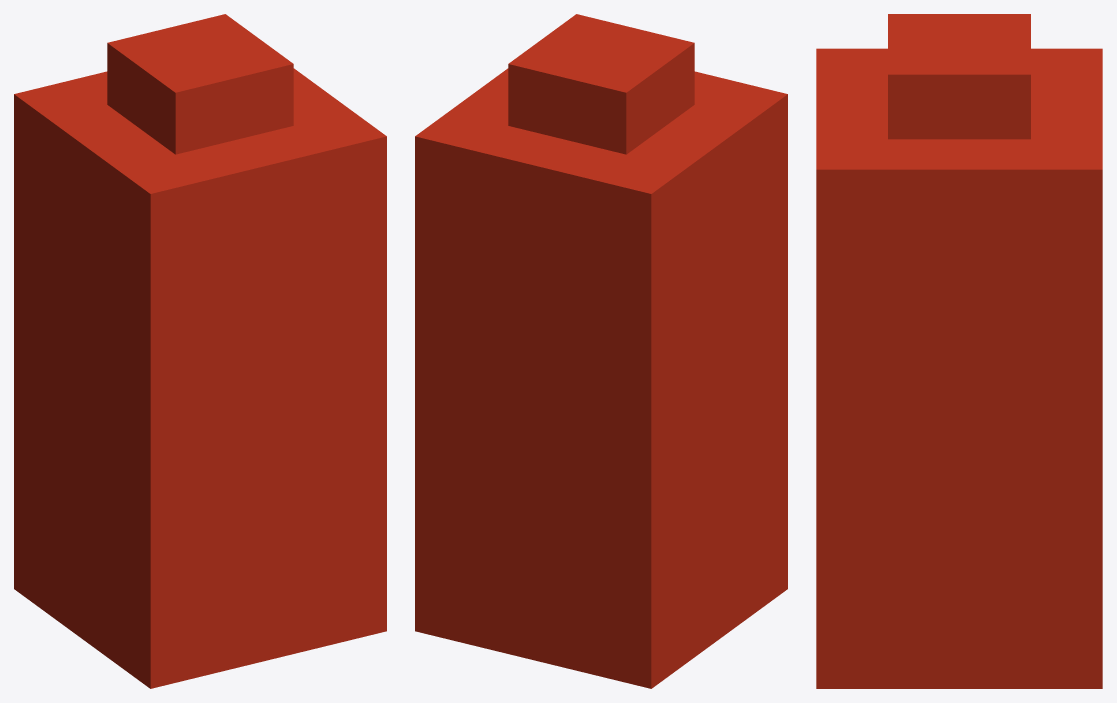
Rendered from two-parts.dae.
3 views of the same model, side by side, from view 1: azimuth 30°, elevation 25°; view 2: azimuth 150°, elevation 25°; view 3: azimuth 270°, elevation 25° (orthographic). The views are drawn at different scales.
Visible parts, largest first — view 1: Body, Cap; view 2: Body, Cap; view 3: Body, Cap.
Part boxes in pixels (x1=…): Body: x1=14, y1=68, x2=386, y2=688; Cap: x1=107, y1=14, x2=293, y2=154; Body: x1=415, y1=68, x2=787, y2=688; Cap: x1=508, y1=14, x2=694, y2=154; Body: x1=816, y1=48, x2=1102, y2=688; Cap: x1=888, y1=14, x2=1030, y2=139.
Size of the model in its own units: 1 by 1 by 2.25.
